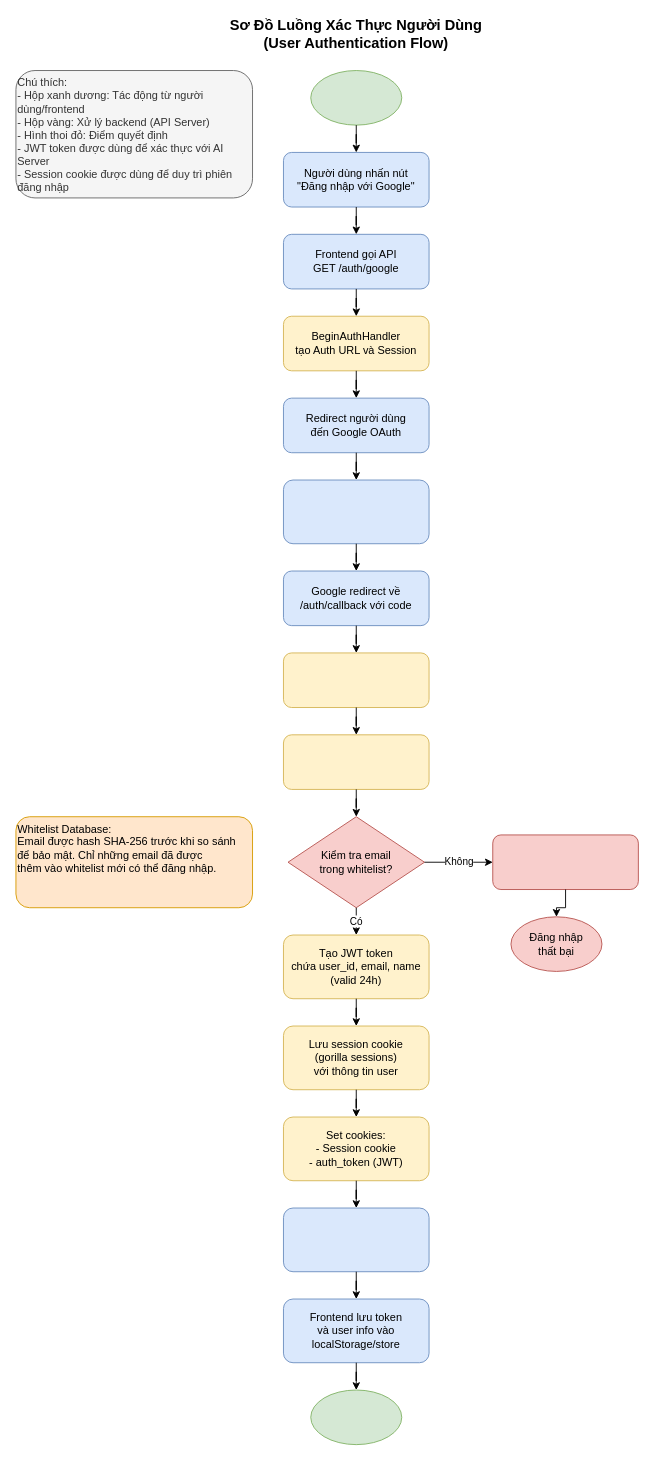
Image size: 654x1461. Some labels were removed from this diagram. The centre of each missing label's shape, as x and y in pixels:
Bắt đầu: pixel 356 97
CallbackHandler đổi code lấy access token: pixel 356 680
Lấy thông tin user từ Google (email, name, picture): pixel 356 761
Người dùng đăng nhập và cho phép truy cập trên Google: pixel 356 511
Redirect về frontend /auth/callback với user data trong URL: pixel 356 1239
Trả về lỗi 403 "Access denied" Email chưa được cấp quyền: pixel 565 862
Đăng nhập thành công: pixel 356 1417
